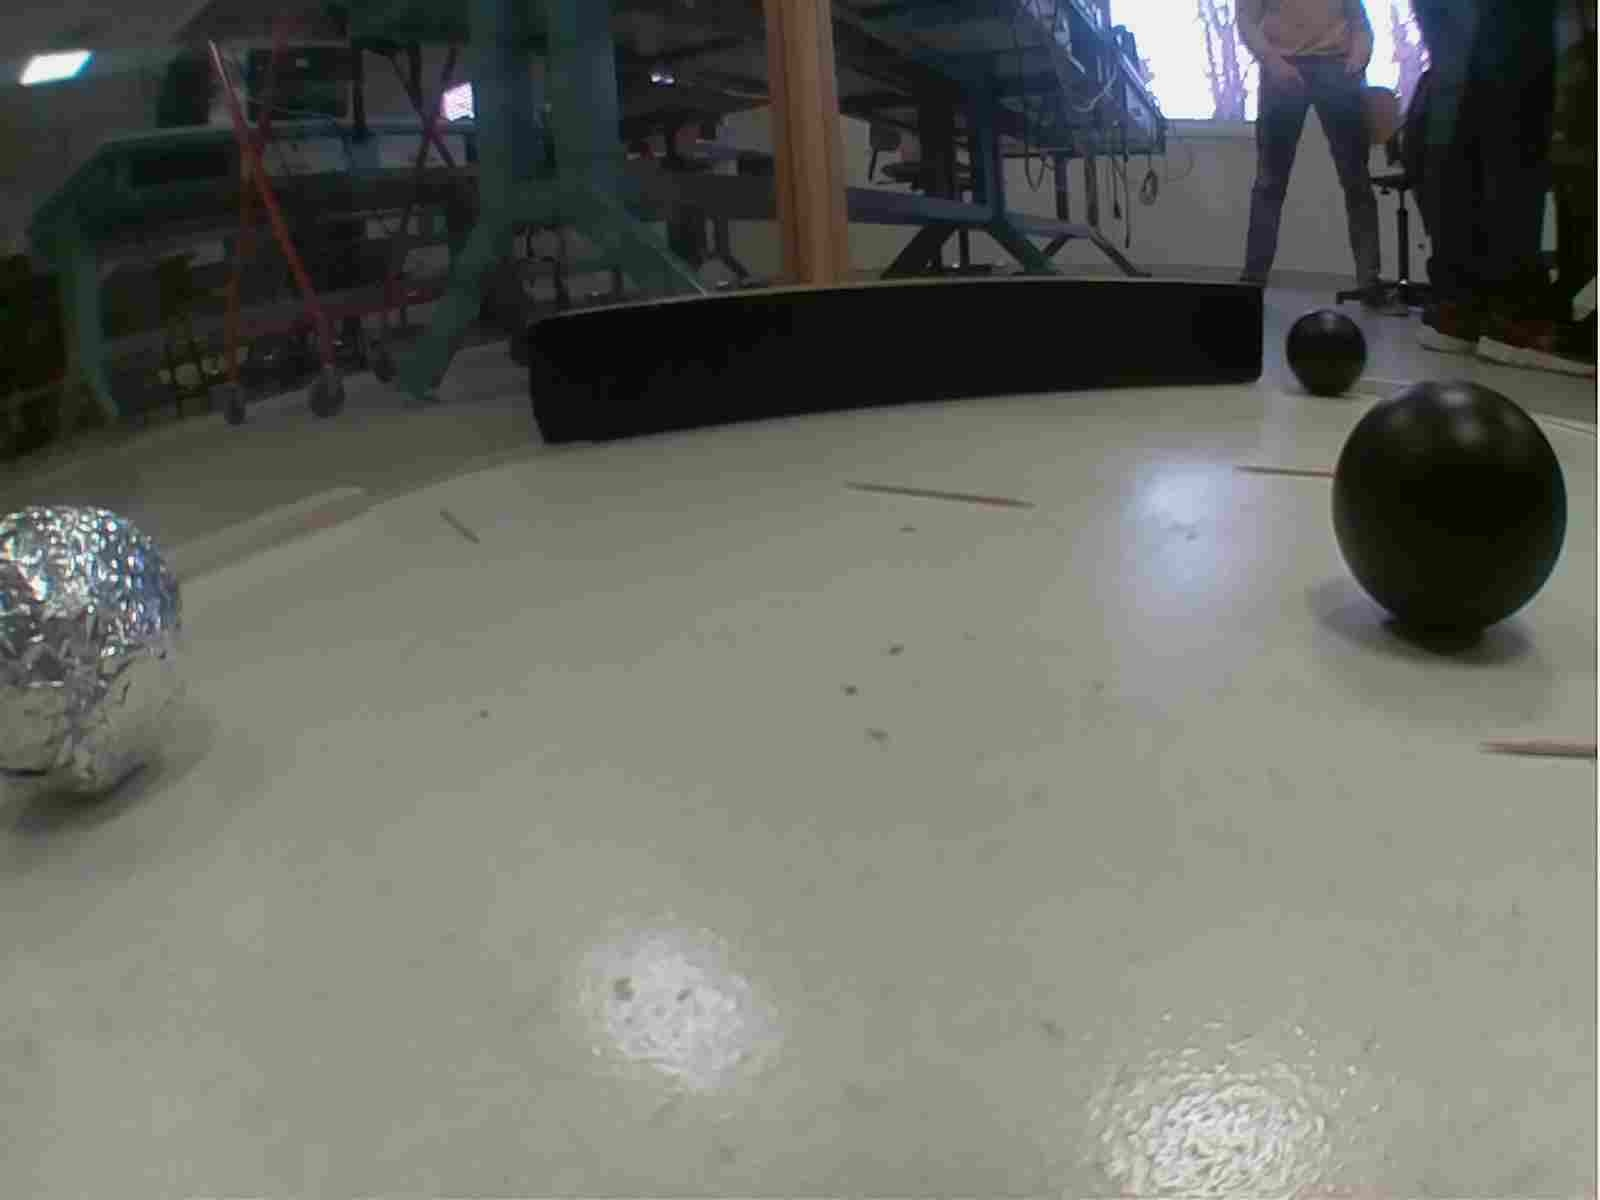bianca: (1, 499, 186, 807)
nera: (1325, 376, 1574, 637), (1288, 306, 1373, 397)
